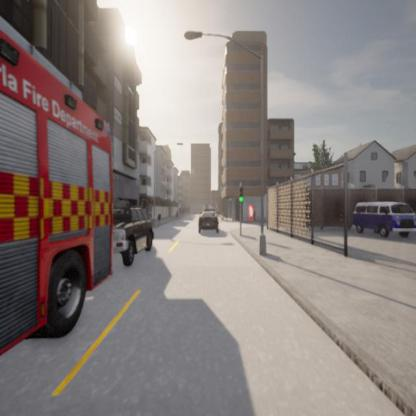traffic_light_green: (240, 186, 245, 203)
vehicle: (1, 17, 119, 376), (352, 200, 416, 239), (113, 200, 155, 258), (197, 210, 219, 233)
